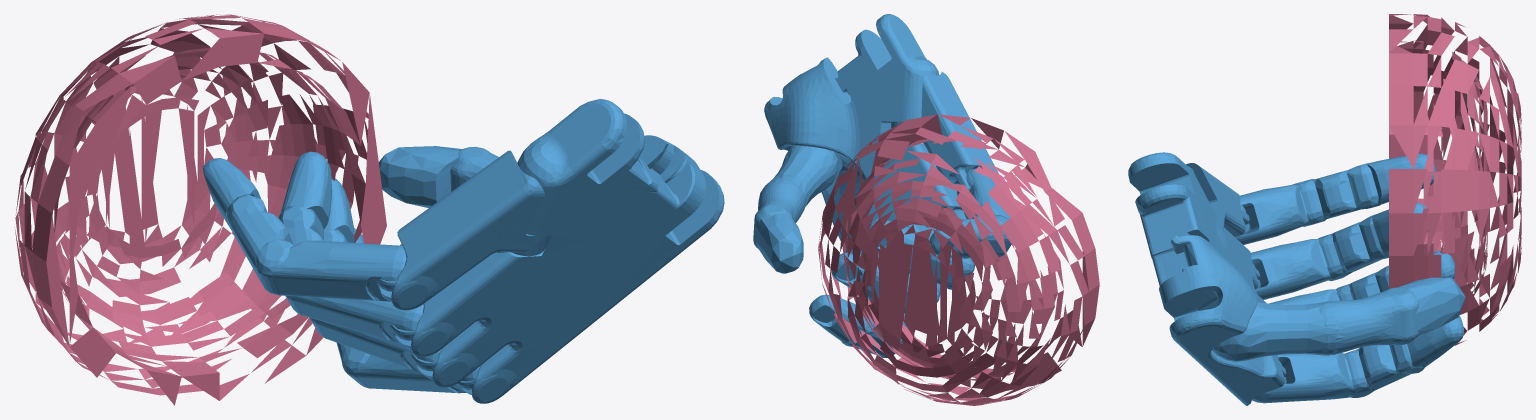
The picture shows the model from 3 angles, left to right: view 1: azimuth 30°, elevation 25°; view 2: azimuth 150°, elevation 25°; view 3: azimuth 270°, elevation 25°; orthographic projection. The views are drawn at different scales.
Visible parts, largest first — view 1: 1; view 2: 1; view 3: 1.
Part boxes in pixels (x1,y1,x2,y2): 1: [14, 14, 724, 405]; 1: [753, 14, 1099, 405]; 1: [1128, 14, 1521, 405].
Bounding box in the file's own units: 0.2251 × 0.1413 × 0.161.
